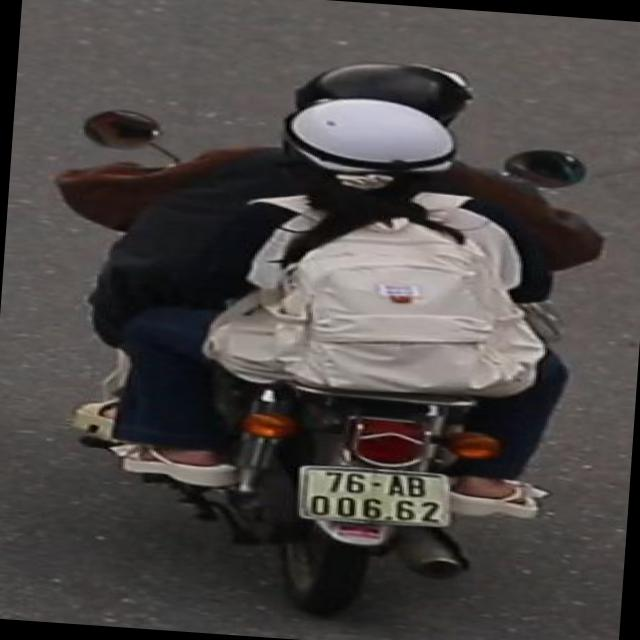LP: (282, 454, 467, 534)
helmet: (262, 91, 509, 252)
